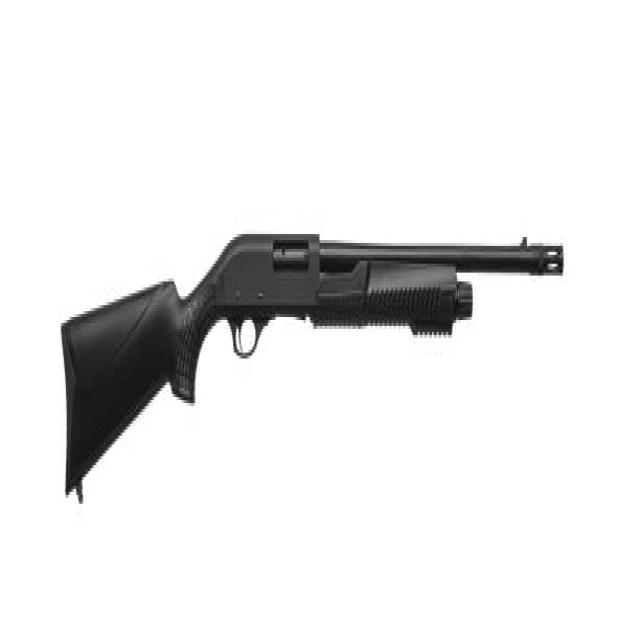rifle: (50, 186, 574, 516)
